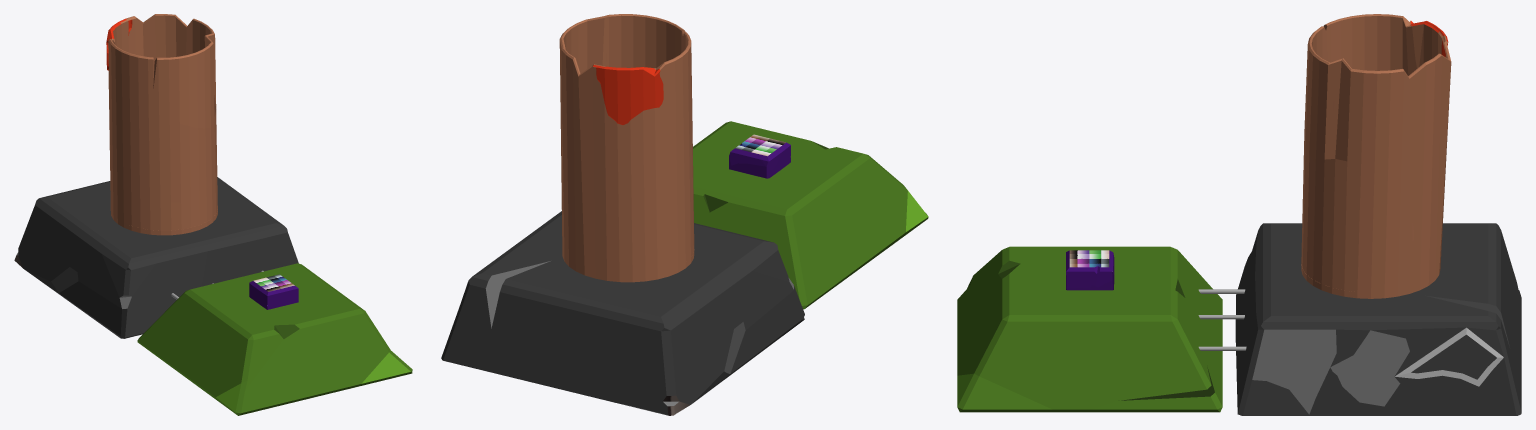
Rendered from LavaSpitter.fbx.
3 views of the same model, side by side, from view 1: azimuth 30°, elevation 25°; view 2: azimuth 150°, elevation 25°; view 3: azimuth 270°, elevation 25° (orthographic). The views are drawn at different scales.
Parts seen in each view (by area): view 1: Base; view 2: Base; view 3: Base.
Boxes of the visible parts, x1=… form: Base: x1=14, y1=14, x2=412, y2=415; Base: x1=441, y1=14, x2=928, y2=415; Base: x1=957, y1=14, x2=1521, y2=415.
Bounding box in the file's own units: 2.41 × 4.74 × 2.94.
